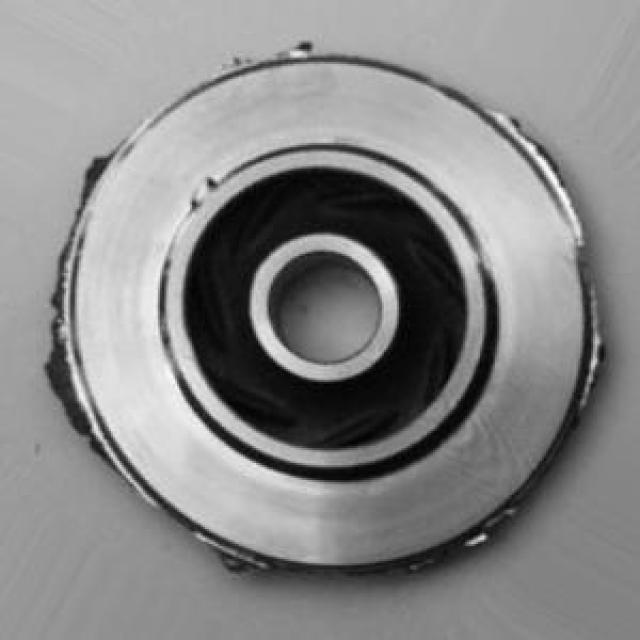Defect: (23, 318, 99, 427)
